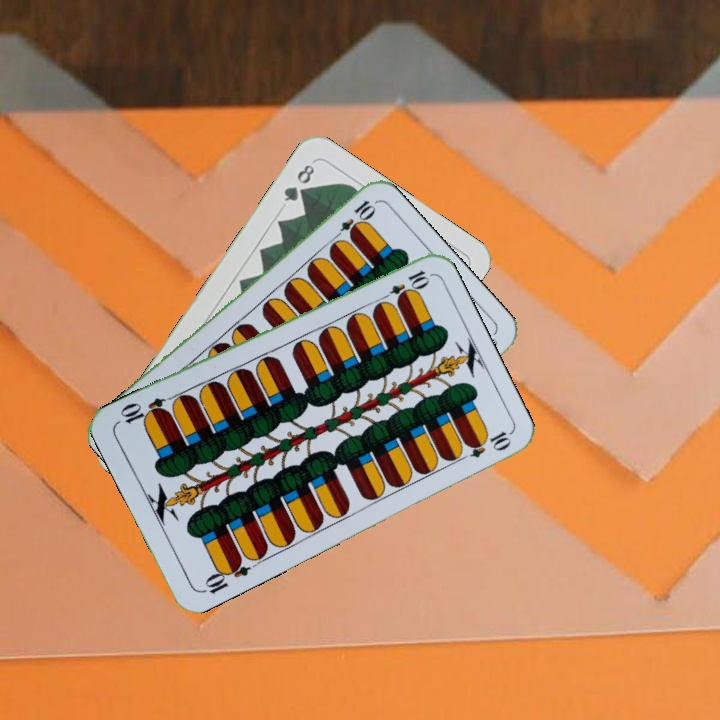E10: (197, 554, 253, 597), (328, 196, 377, 245), (376, 266, 432, 305)
G8: (279, 160, 318, 204)
